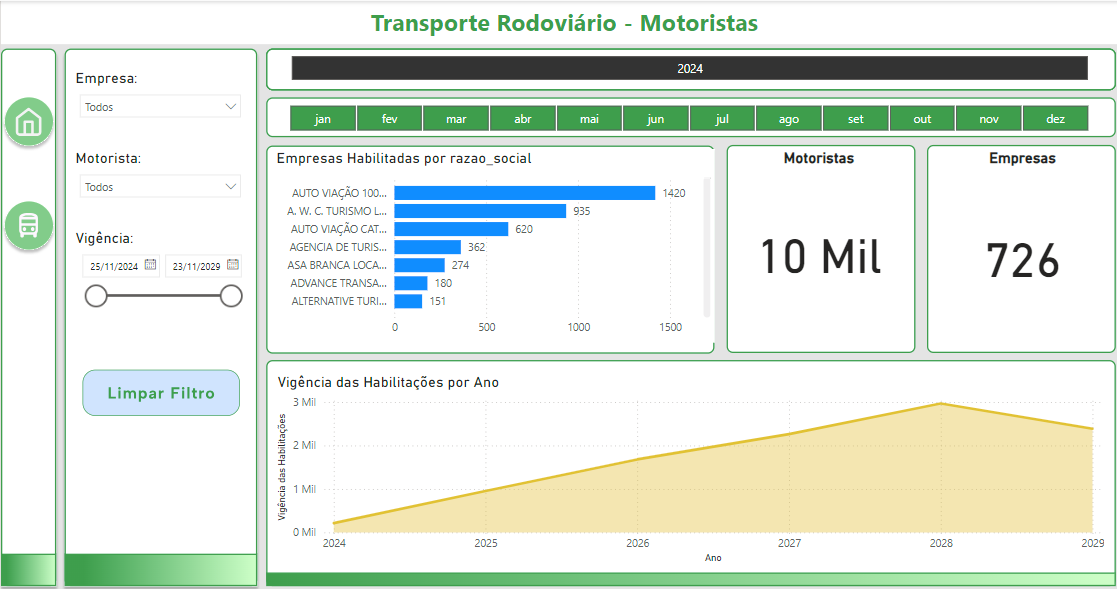

Layout of this report page (visuals, bound fields, positions):
{"tool":"powerbi","page":{"name":"Tranporte","canvas":[1280,720],"ordinal":1},"visuals":[{"type":"actionButton","box":[8.9,116.7,43.3,44.4],"z":0},{"type":"textbox","box":[0,0,1280,48.9],"z":1000},{"type":"slicer","title":"Empresa:","fields":{"Values":["fFatoTransporte.razao_social"]},"box":[80,76.7,203.3,64.4],"z":1001},{"type":"slicer","title":"Motorista:","fields":{"Values":["fFatoTransporte.nome_motorista"]},"box":[80,167.8,203.3,65.6],"z":1002},{"type":"slicer","title":"Vigência:","fields":{"Values":["fFatoTransporte.motoristas-habilitados.vigencia_do_cadastro"]},"box":[80.1,259.4,203,100.4],"z":1003},{"type":"areaChart","fields":{"Category":["fFatoTransporte.motoristas-habilitados.vigencia_do_cadastro.Variation.Hierarquia de datas.Ano","fFatoTransporte.motoristas-habilitados.vigencia_do_cadastro.Variation.Hierarquia de datas.Trimestre","fFatoTransporte.motoristas-habilitados.vigencia_do_cadastro.Variation.Hierarquia de datas.Mês","fFatoTransporte.motoristas-habilitados.vigencia_do_cadastro.Variation.Hierarquia de datas.Dia","dCalendarioTransporte.Date.Variation.Hierarquia de datas.Ano","dCalendarioTransporte.Date.Variation.Hierarquia de datas.Trimestre","dCalendarioTransporte.Date.Variation.Hierarquia de datas.Mês","dCalendarioTransporte.Date.Variation.Hierarquia de datas.Dia"],"Y":["Medidas.QtdMotoristas"]},"box":[308.8,422.2,948.8,220.1],"z":1004},{"type":"clusteredBarChart","fields":{"Category":["fFatoTransporte.razao_social"],"Y":["Medidas.QtdMotoristas"]},"box":[307.8,168.1,503.1,220.3],"z":1005},{"type":"card","title":"Motoristas","fields":{"Values":["Medidas.QtdMotoristas"]},"box":[829.1,168.1,199.9,210.1],"z":1006},{"type":"card","title":"Empresas","fields":{"Values":["Medidas.QtdEmpresas"]},"box":[1063.1,168.1,194.2,219.2],"z":1007},{"type":"slicer","fields":{"Values":["dCalendarioTransporte.AnoAtual"]},"box":[304.4,55.6,954.4,41.1],"z":1008},{"type":"slicer","fields":{"Values":["dCalendarioTransporte.Mês"]},"box":[307.8,116.7,945.6,32.2],"z":1009},{"type":"actionButton","box":[105.6,421.1,156.7,44.4],"z":1010}]}

Visuals, with their boxes on the page's 1280x720 design canvas (x1, y1, x2, y2). These are canvas units, not pixel positions in the 1117x589 screenshot, which may show the page scaled, cropped or inside an application window:
actionButton: x1=9 y1=117 x2=52 y2=161
textbox: x1=0 y1=0 x2=1280 y2=49
"Empresa:" slicer: x1=80 y1=77 x2=283 y2=141
"Motorista:" slicer: x1=80 y1=168 x2=283 y2=233
"Vigência:" slicer: x1=80 y1=259 x2=283 y2=360
areaChart - fFatoTransporte.motoristas-habilitados.vigencia_do_cadastro.Variation.Hierarquia de datas.Ano x fFatoTransporte.motoristas-habilitados.vigencia_do_cadastro.Variation.Hierarquia de datas.Trimestre: x1=309 y1=422 x2=1258 y2=642
clusteredBarChart - fFatoTransporte.razao_social x Medidas.QtdMotoristas: x1=308 y1=168 x2=811 y2=388
"Motoristas" card: x1=829 y1=168 x2=1029 y2=378
"Empresas" card: x1=1063 y1=168 x2=1257 y2=387
slicer - dCalendarioTransporte.AnoAtual: x1=304 y1=56 x2=1259 y2=97
slicer - dCalendarioTransporte.Mês: x1=308 y1=117 x2=1253 y2=149
actionButton: x1=106 y1=421 x2=262 y2=466
